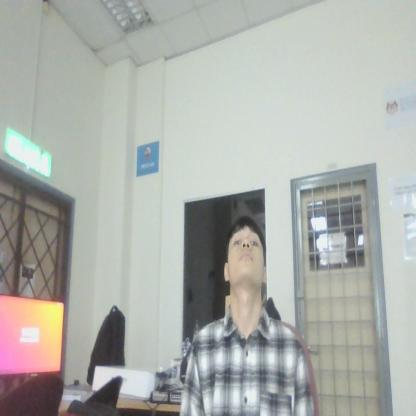Open-Eyes: (232, 231, 261, 254)
